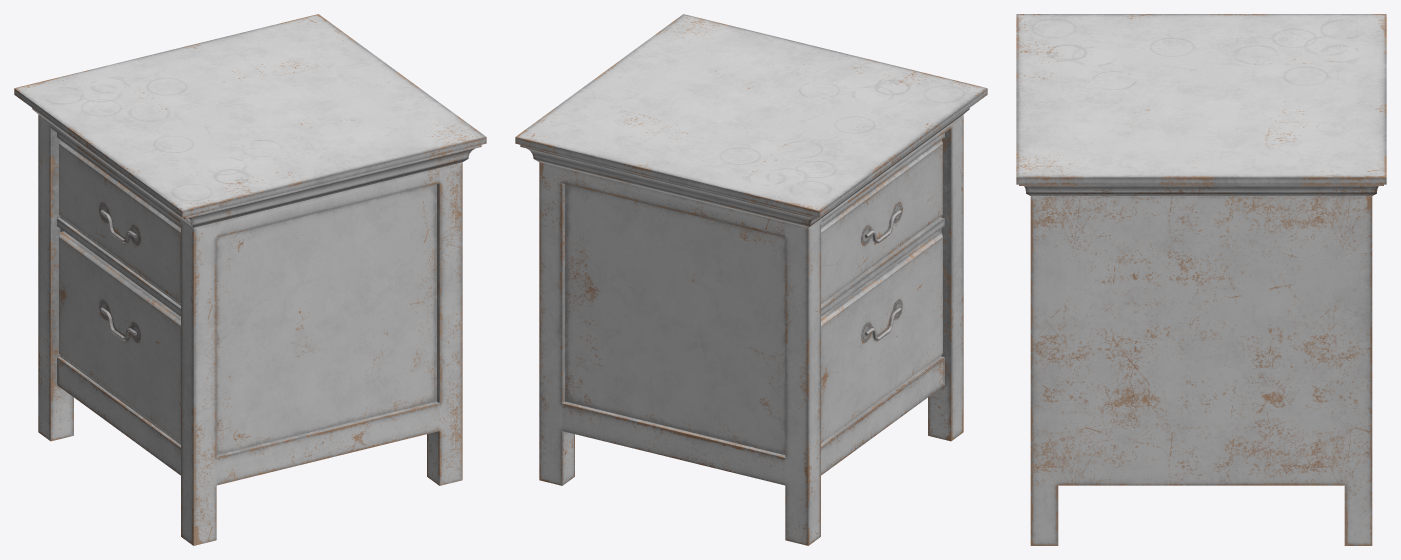
File: SM_NightStand.fbx
The picture shows the model from 3 angles, left to right: view 1: azimuth 30°, elevation 25°; view 2: azimuth 150°, elevation 25°; view 3: azimuth 270°, elevation 25°; orthographic projection. The views are drawn at different scales.
Visible parts, largest first — view 1: SM_NightStand_LOD0; view 2: SM_NightStand_LOD0; view 3: SM_NightStand_LOD0.
Part boxes in pixels (<box>): SM_NightStand_LOD0: <box>14,14,486,545</box>; SM_NightStand_LOD0: <box>515,14,987,545</box>; SM_NightStand_LOD0: <box>1016,14,1386,545</box>.
Bounding box in the file's own units: 70.95 × 67.91 × 76.53.
